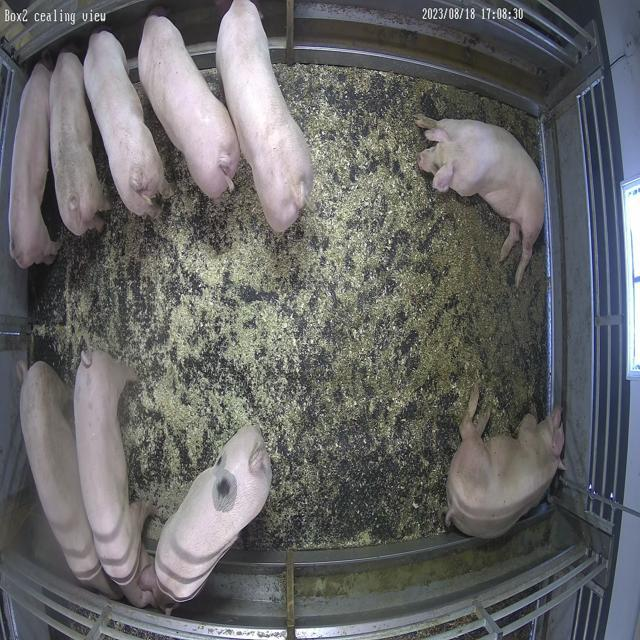Dirt: (414, 187, 546, 436), (422, 83, 541, 166)
Pig: (19, 362, 115, 598), (217, 0, 312, 232), (152, 427, 272, 608), (73, 352, 150, 602), (138, 14, 240, 200), (447, 385, 566, 540), (83, 30, 169, 216), (49, 51, 109, 236), (9, 62, 58, 268)
